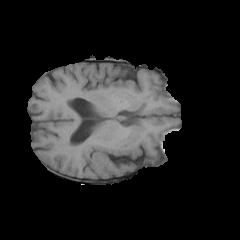glioma: (82, 141, 135, 171)
